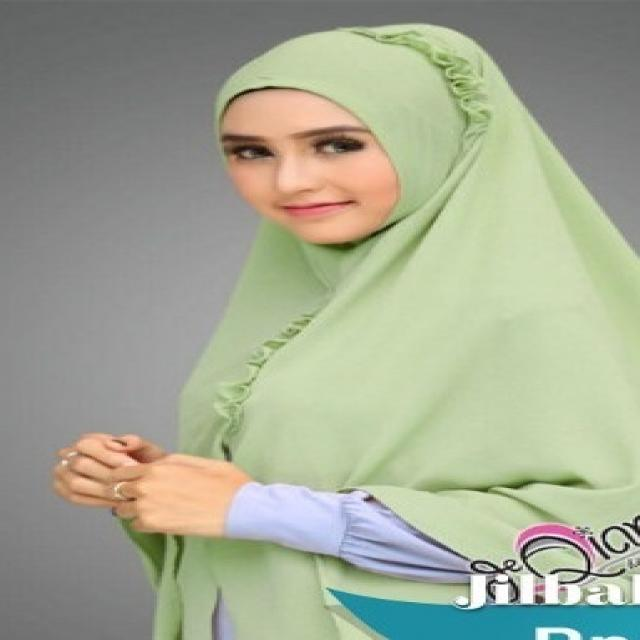head: (199, 25, 538, 258)
